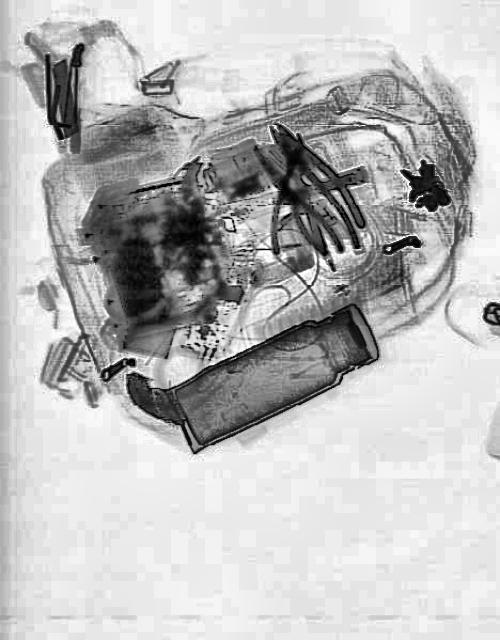Pliers: (248, 104, 368, 260), (256, 120, 358, 264)
